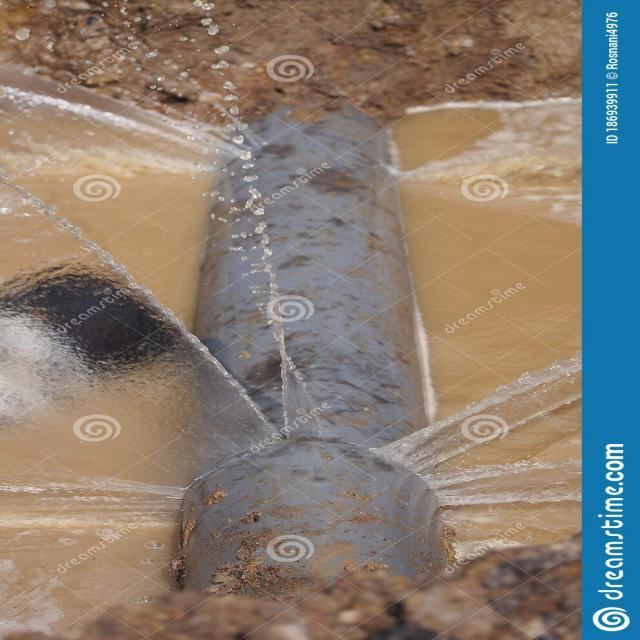leak: (0, 259, 268, 536), (375, 356, 580, 564), (0, 65, 236, 179)
